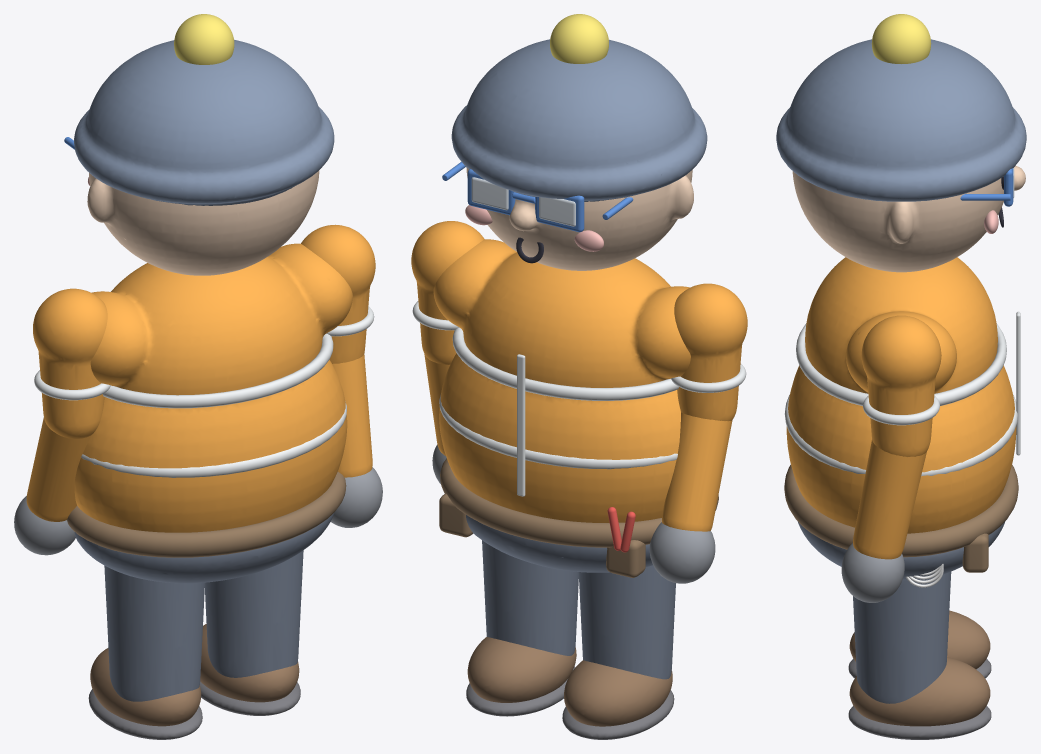
File: toy_warnjacke.glb
The picture shows the model from 3 angles, left to right: view 1: azimuth 30°, elevation 25°; view 2: azimuth 150°, elevation 25°; view 3: azimuth 270°, elevation 25°; orthographic projection.
Parts seen in each view (by area): view 1: Body, LegL, LegR, UpperArmL, ForearmL, ForearmR, UpperArmR; view 2: Body, LegL, LegR, ForearmL, UpperArmL, UpperArmR, ForearmR; view 3: Body, LegR, UpperArmR, ForearmR, LegL.
Boxes of the visible parts, box(x1,y1,x2,y2) form: Body: box(64, 14, 352, 583); LegL: box(88, 565, 204, 739); LegR: box(200, 550, 303, 715); UpperArmL: box(33, 288, 110, 438); ForearmL: box(14, 417, 91, 555); ForearmR: box(330, 354, 382, 527); UpperArmR: box(301, 224, 375, 363); Body: box(433, 14, 718, 577); LegL: box(562, 565, 675, 739); LegR: box(466, 540, 578, 716); ForearmL: box(649, 412, 732, 583); UpperArmL: box(671, 283, 747, 421); UpperArmR: box(411, 221, 484, 364); ForearmR: box(424, 354, 449, 483); Body: box(776, 14, 1026, 587); LegR: box(848, 571, 991, 739); UpperArmR: box(861, 315, 941, 456); ForearmR: box(841, 440, 926, 602); LegL: box(848, 610, 991, 678).
Size of the model in its own units: 1.02 by 2.04 by 0.6744.
